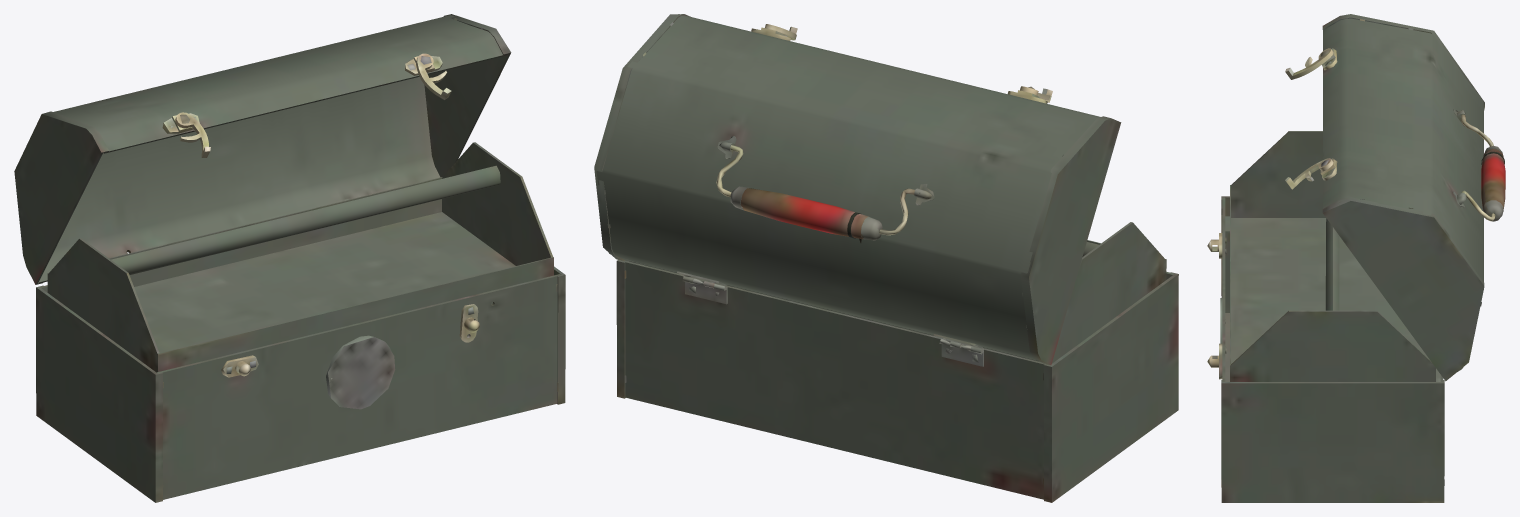
The model's file is toolbox.glb.
3 views of the same model, side by side, from view 1: azimuth 30°, elevation 25°; view 2: azimuth 150°, elevation 25°; view 3: azimuth 270°, elevation 25° (orthographic). The views are drawn at different scales.
Parts seen in each view (by area): view 1: metal_toolbox_lid, metal_toolbox, metal_toolbox_tray, metal_toolbox_handle_latch_r, metal_toolbox_handle_latch_l; view 2: metal_toolbox_lid, metal_toolbox, metal_toolbox_tray, metal_toolbox_handle; view 3: metal_toolbox_lid, metal_toolbox_tray, metal_toolbox, metal_toolbox_handle, metal_toolbox_handle_latch_l, metal_toolbox_handle_latch_r.
Boxes of the visible parts, x1,y1,x2,y2 form: metal_toolbox_lid: (14, 14, 511, 284); metal_toolbox: (36, 266, 565, 502); metal_toolbox_tray: (47, 142, 553, 372); metal_toolbox_handle_latch_r: (416, 53, 451, 99); metal_toolbox_handle_latch_l: (175, 112, 210, 157); metal_toolbox_lid: (594, 14, 1121, 365); metal_toolbox: (616, 260, 1178, 502); metal_toolbox_tray: (629, 222, 1166, 363); metal_toolbox_handle: (716, 145, 914, 243); metal_toolbox_lid: (1320, 14, 1484, 381); metal_toolbox_tray: (1230, 131, 1435, 381); metal_toolbox: (1207, 196, 1444, 502); metal_toolbox_handle: (1461, 114, 1505, 221); metal_toolbox_handle_latch_l: (1285, 48, 1333, 79); metal_toolbox_handle_latch_r: (1285, 158, 1333, 189).
Bounding box in the file's own units: 0.4 × 0.3047 × 0.2702.
Materials: 1 (1 with a texture image).
